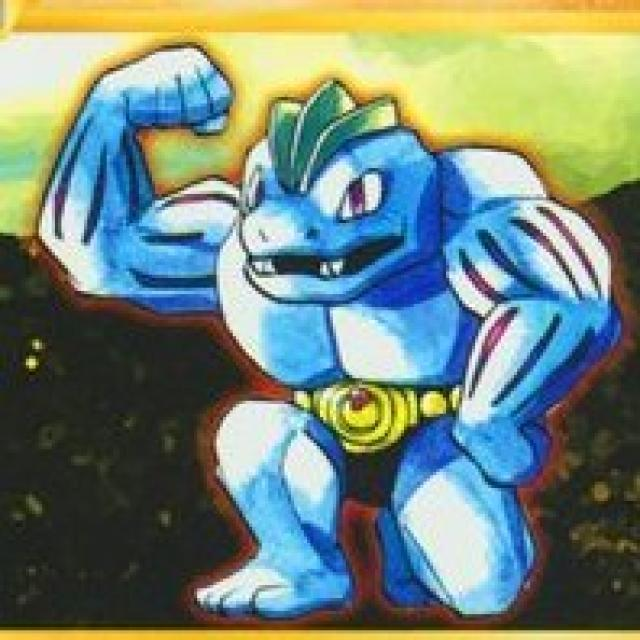Machoke: (31, 29, 634, 619)
